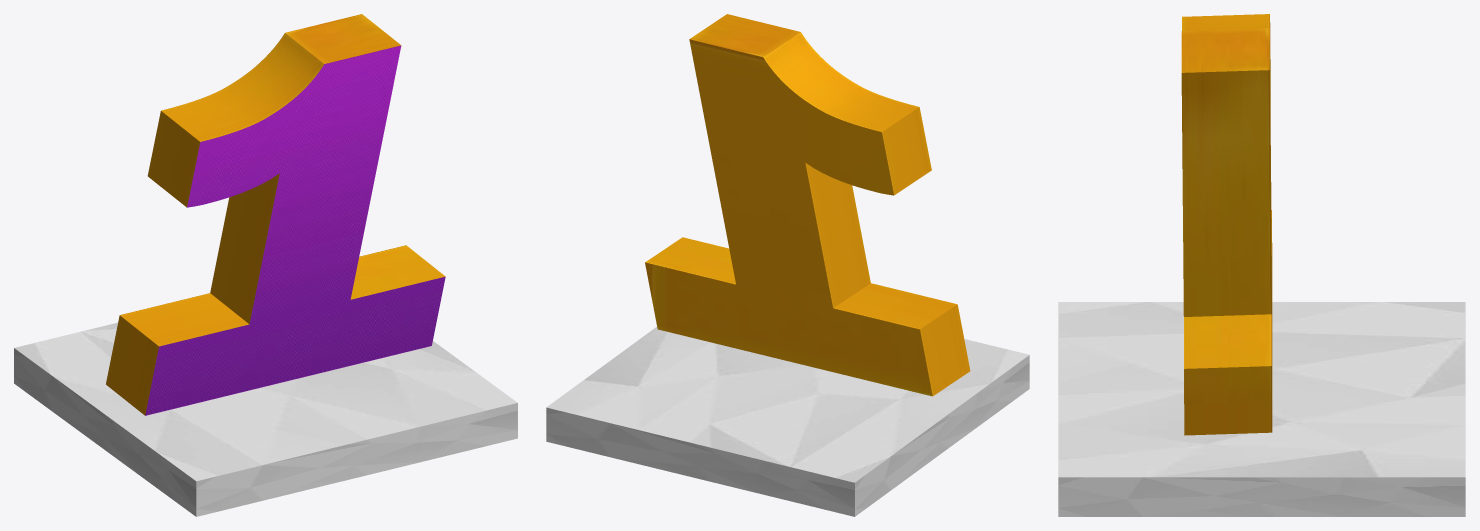
File: UNO.DAE
The picture shows the model from 3 angles, left to right: view 1: azimuth 30°, elevation 25°; view 2: azimuth 150°, elevation 25°; view 3: azimuth 270°, elevation 25°; orthographic projection. The views are drawn at different scales.
Visible parts, largest first — view 1: Text001, Box001; view 2: Text001, Box001; view 3: Box001, Text001.
Part boxes in pixels (x1,y1,x2,y2): Text001: (106,14,445,415); Box001: (14,322,517,516); Text001: (645,14,970,396); Box001: (546,327,1029,516); Box001: (1058,302,1465,516); Text001: (1181,14,1272,435).
Bounding box in the file's own units: 139 × 137 × 153.
Materials: 3 (3 with a texture image).
